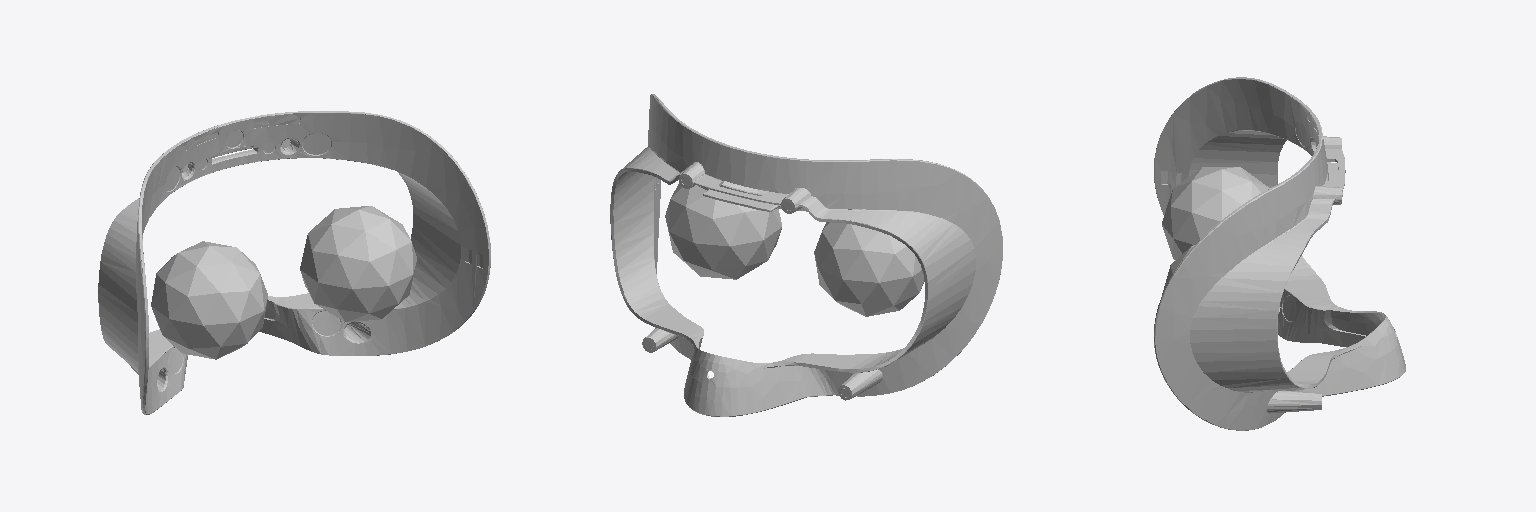
The model's file is hobovr_gaze_master.obj.
3 renders of one model, left to right at view 1: azimuth 30°, elevation 25°; view 2: azimuth 150°, elevation 25°; view 3: azimuth 270°, elevation 25°, orthographic.
Bounding box in the file's own units: 0.1514 × 0.1006 × 0.0959.